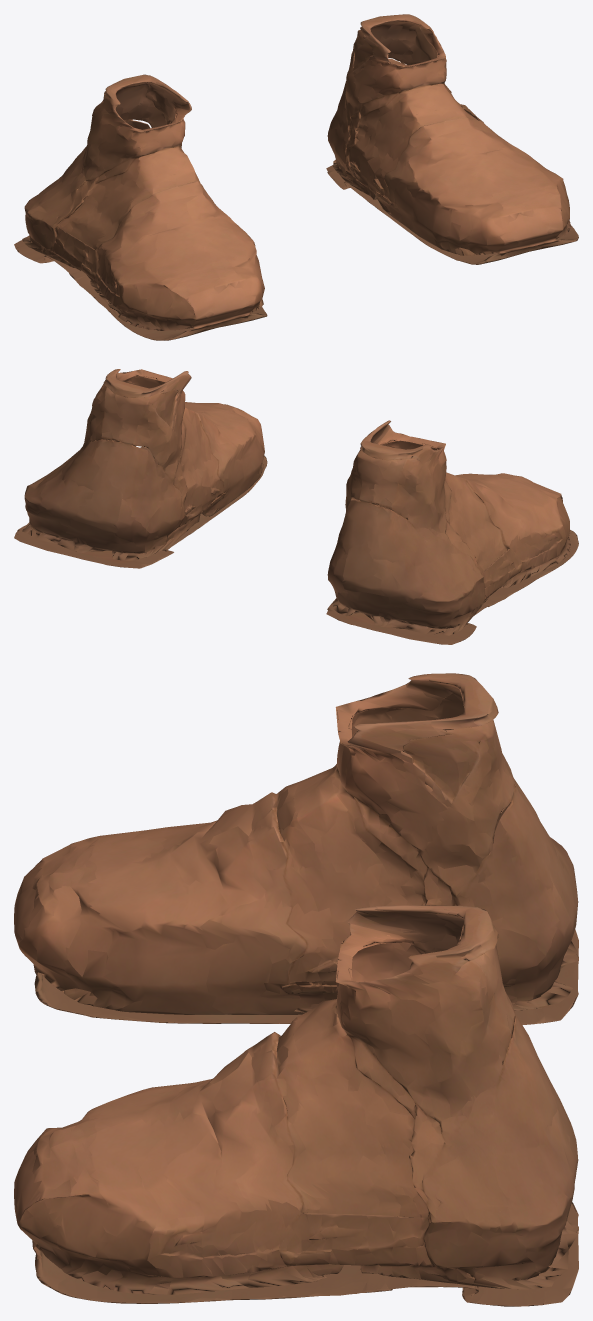
File: low-shoes.glb
3 renders of one model, top to bottom at view 1: azimuth 30°, elevation 25°; view 2: azimuth 150°, elevation 25°; view 3: azimuth 270°, elevation 25°, orthographic. The views are drawn at different scales.
Visible parts, largest first — view 1: Module_low-shoes_right, Module_low-shoes_left_0; view 2: Module_low-shoes_right, Module_low-shoes_left_0; view 3: Module_low-shoes_left_0, Module_low-shoes_right.
Boxes of the visible parts, x1,y1,x2,y2 form: Module_low-shoes_right: (14, 74, 267, 340); Module_low-shoes_left_0: (326, 14, 578, 264); Module_low-shoes_right: (326, 420, 578, 644); Module_low-shoes_left_0: (14, 369, 267, 568); Module_low-shoes_left_0: (14, 905, 578, 1306); Module_low-shoes_right: (14, 673, 578, 1024).
Size of the model in its own units: 0.6121 by 0.2074 by 0.3609.
Materials: 1 (1 with a texture image).
